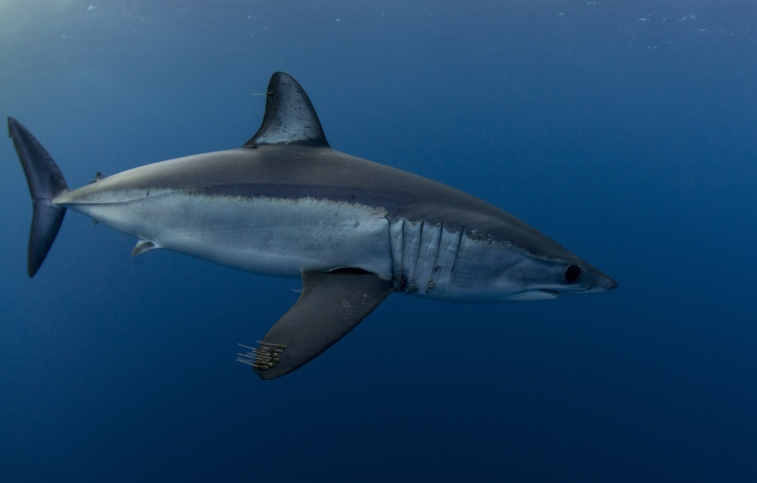Mako: (3, 68, 646, 383)
